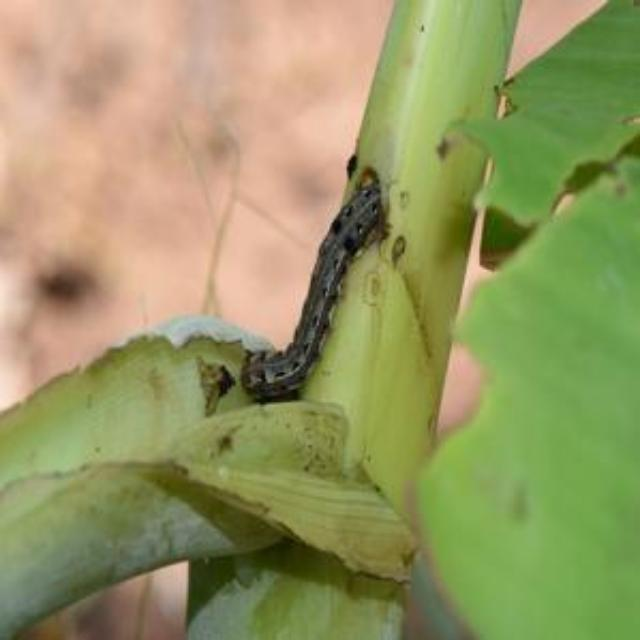Tobacco cutworm: (103, 128, 471, 432)
